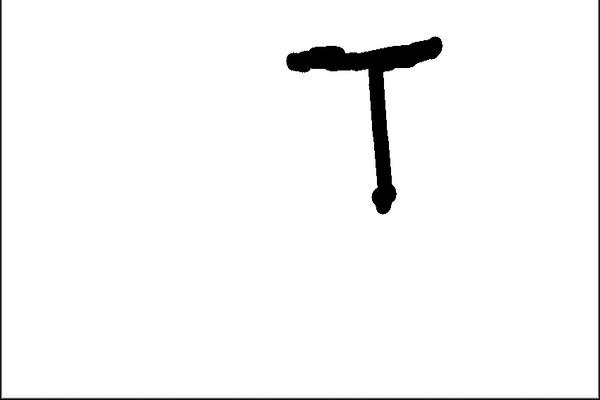T: (277, 34, 450, 215)
